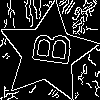B: (22, 28, 72, 68)
